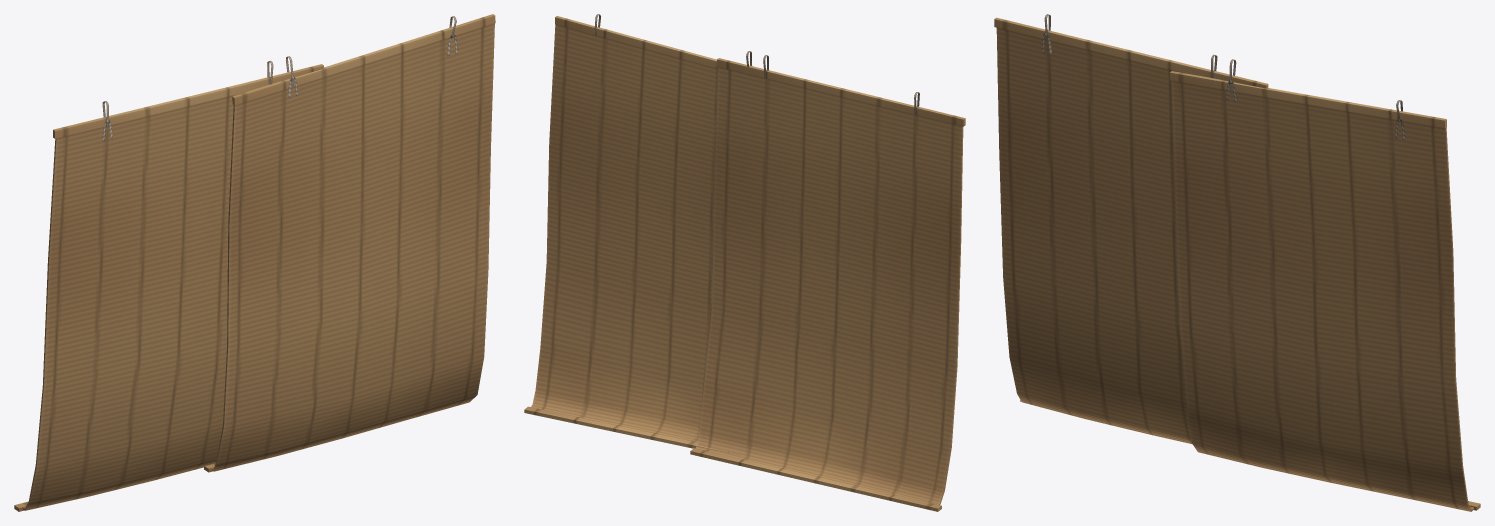
Rendered from jsf_BackSide_s01_c07.fbx.
3 renders of one model, left to right at view 1: azimuth 30°, elevation 25°; view 2: azimuth 150°, elevation 25°; view 3: azimuth 330°, elevation 25°, orthographic. The views are drawn at different scales.
Visible parts, largest first — view 1: jsf_BackSide_s01_c07; view 2: jsf_BackSide_s01_c07; view 3: jsf_BackSide_s01_c07.
Boxes of the visible parts, x1,y1,x2,y2 form: jsf_BackSide_s01_c07: (14, 14, 495, 511); jsf_BackSide_s01_c07: (524, 14, 965, 511); jsf_BackSide_s01_c07: (994, 14, 1480, 511).
Size of the model in its own units: 212 by 187 by 33.59.
